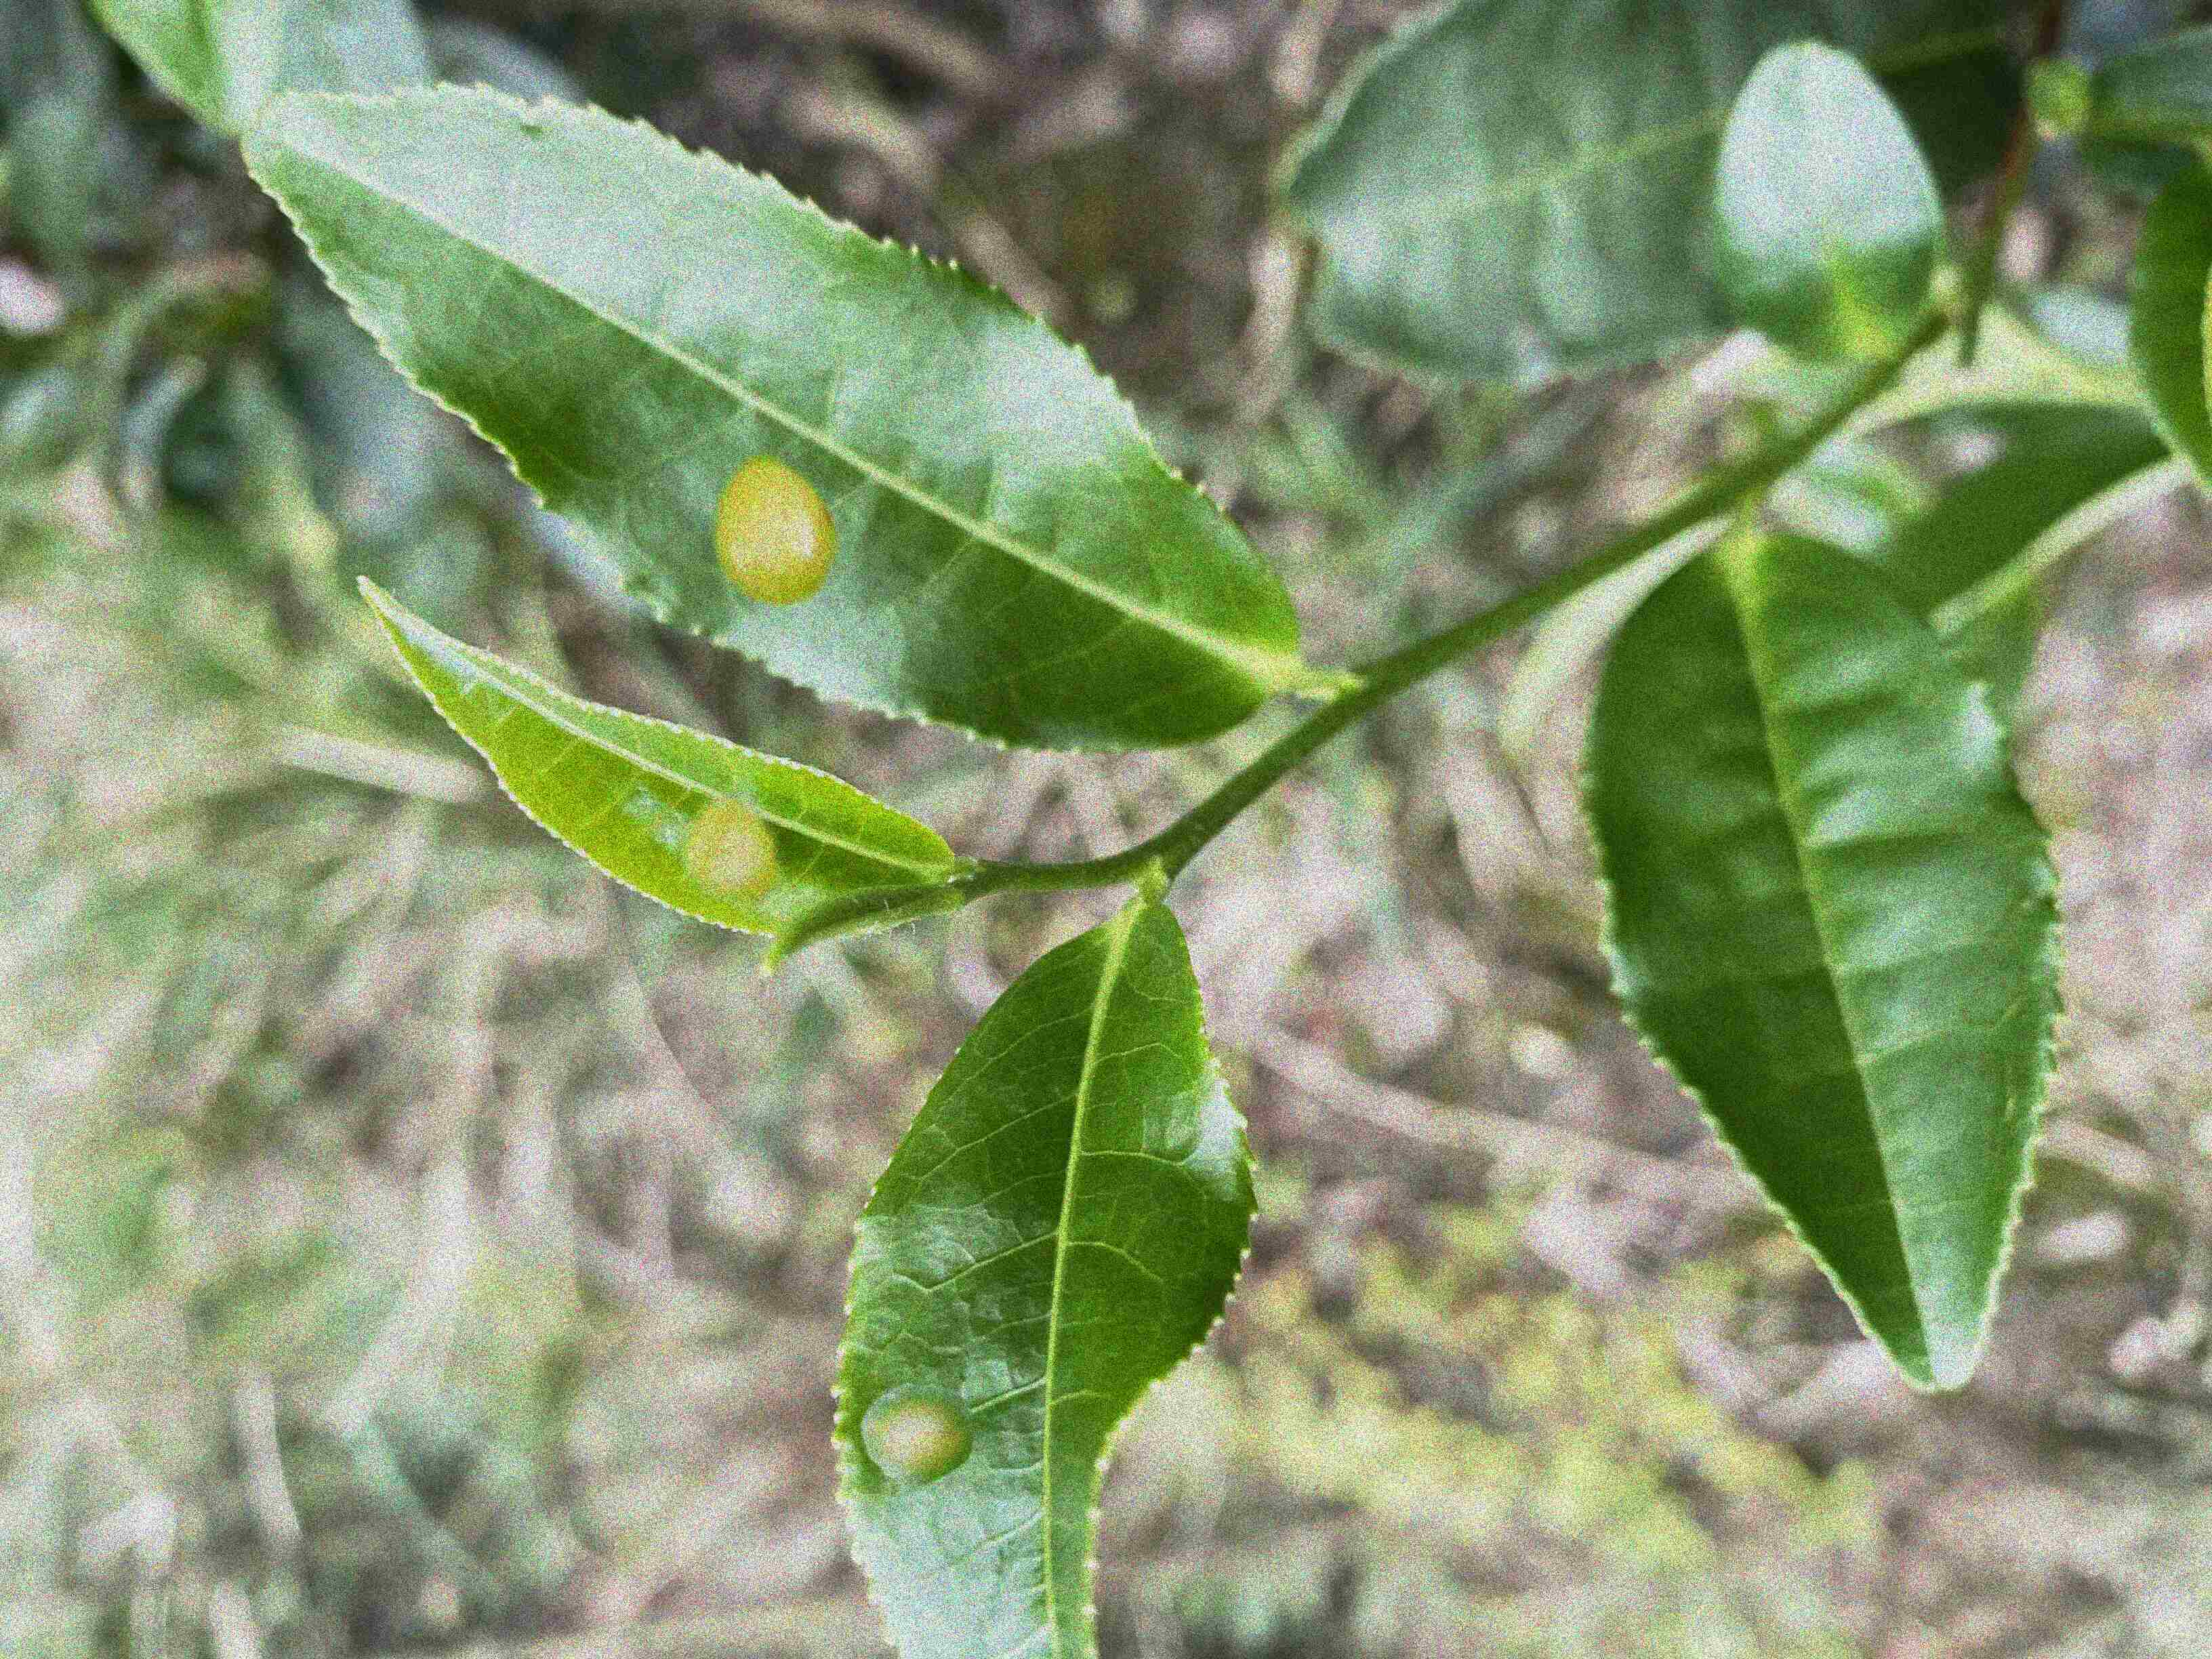chabing_low: (237, 77, 1299, 755), (829, 890, 1261, 1656), (355, 573, 960, 941)
healthy: (1581, 521, 2066, 1398)
